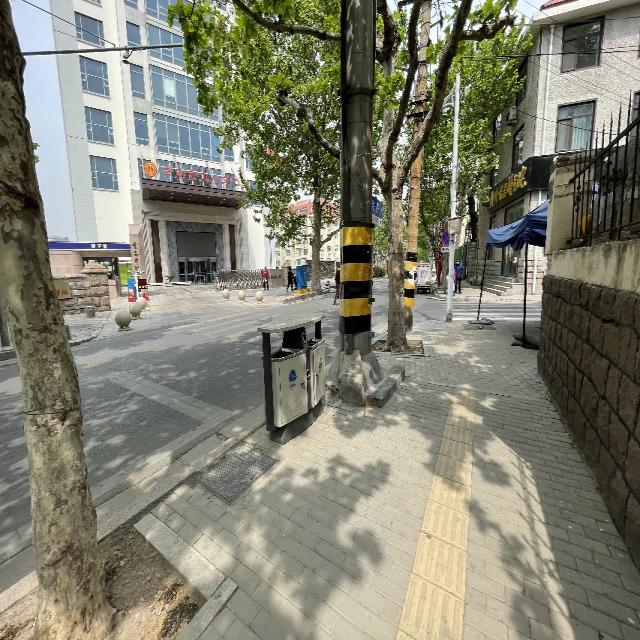garbage_bin: (256, 314, 325, 445)
